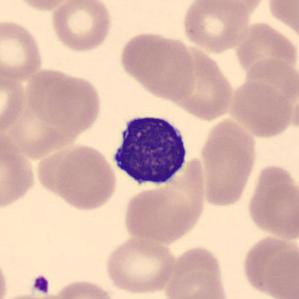Lymphocyte: (105, 107, 194, 191)
Platelets: (30, 273, 51, 297)
RBC: (196, 116, 259, 212), (160, 46, 231, 121), (121, 183, 199, 244), (53, 143, 119, 212), (103, 235, 177, 296), (245, 162, 298, 242), (228, 79, 295, 139), (180, 0, 253, 54), (239, 235, 298, 299), (136, 36, 194, 100), (43, 73, 103, 134), (234, 17, 299, 73), (49, 0, 114, 54), (0, 126, 38, 213), (118, 29, 176, 85), (25, 65, 78, 123), (0, 16, 45, 82), (164, 260, 229, 299), (0, 69, 28, 135), (47, 277, 118, 299), (265, 0, 299, 40), (200, 0, 269, 18), (10, 0, 76, 12), (0, 291, 60, 299), (0, 252, 10, 299)
